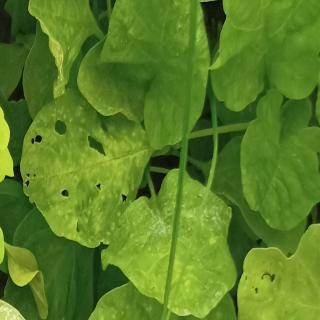karat_putih: (100, 161, 242, 318), (20, 85, 154, 247), (0, 0, 45, 100), (0, 268, 28, 320)
kekurangan_mangan: (0, 96, 22, 194)
